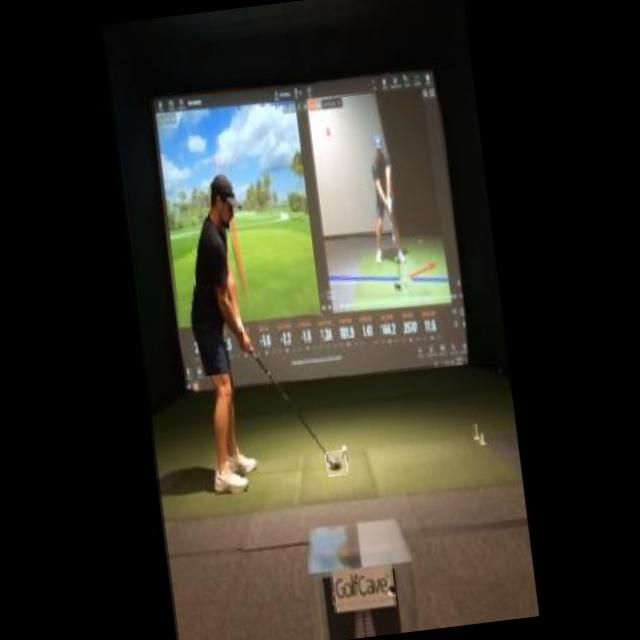club head: (325, 450, 348, 476)
